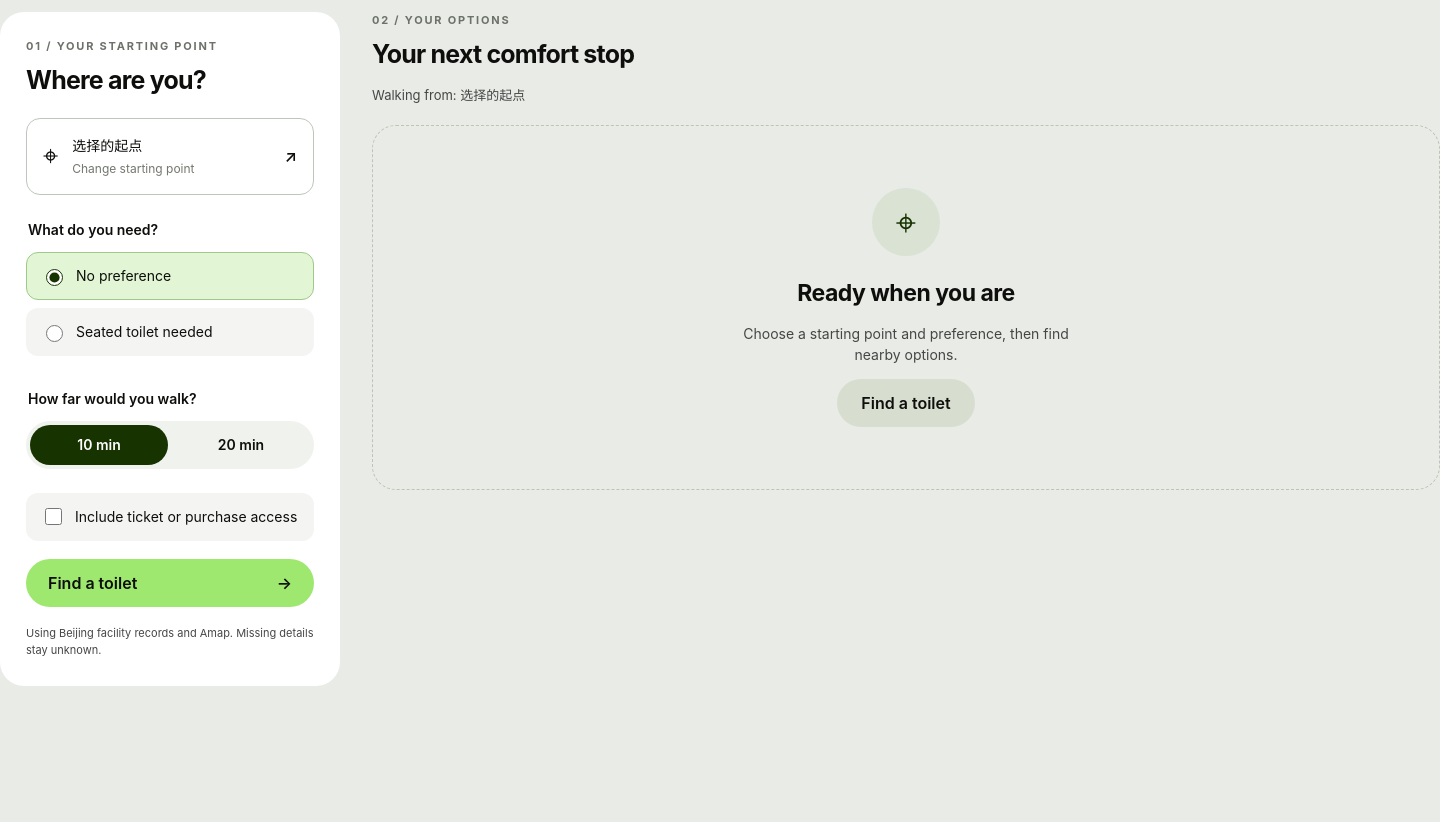
offline DOM: a delayed old search cannot overwrite the changed preference, even if transport ignores abort
Click the button "Find a toilet →" at {"x": 93, "y": 583}, box [26,559,314,607]
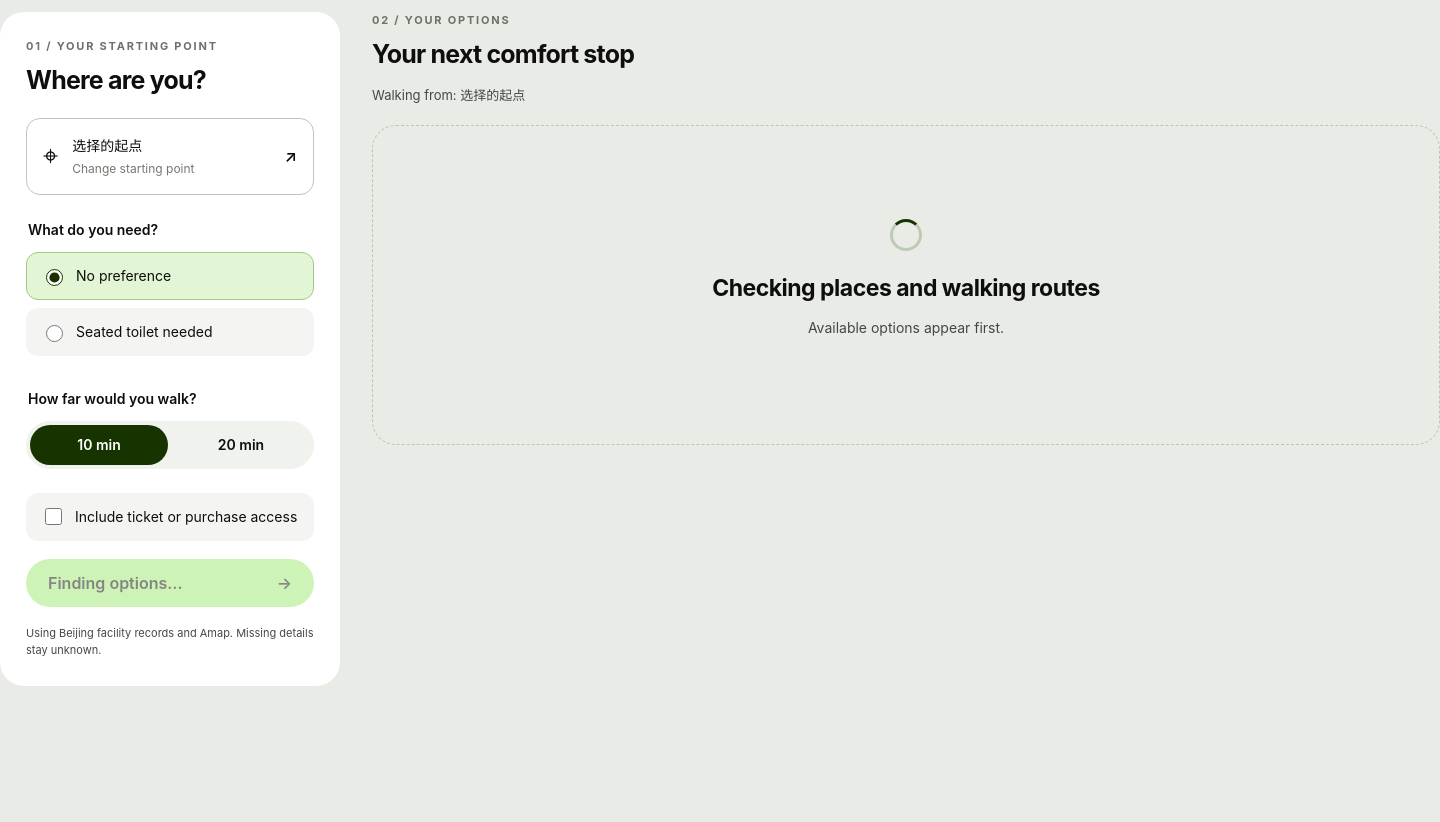
Click the radio button labelled "Seated toilet needed" at {"x": 54, "y": 333}, box [46,325,63,342]
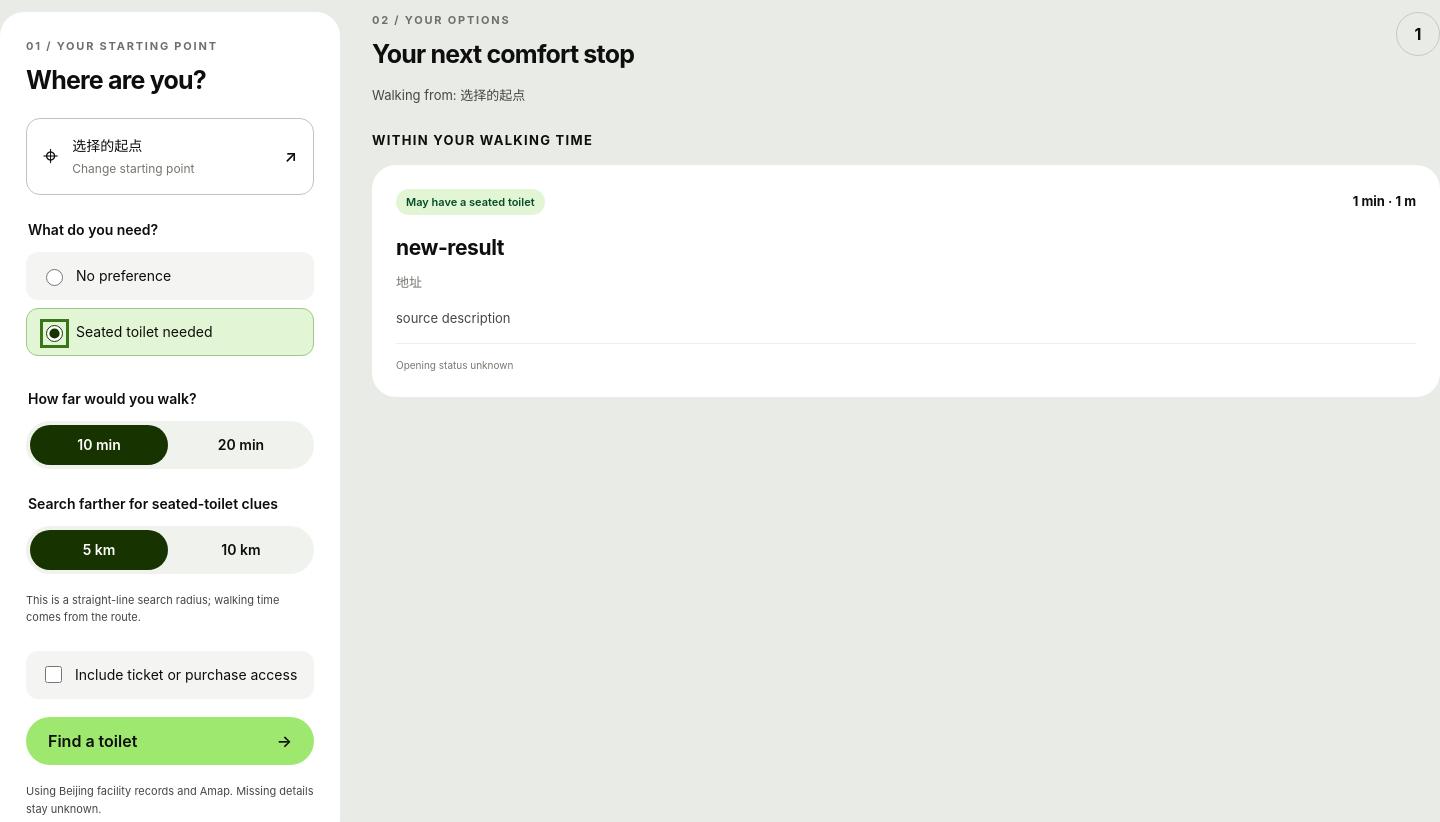
expect the heading "new-result" is shown: met, box [396,235,504,260]
expect the text "1 min · 1 m" is shown: met, box [1353,192,1416,212]
